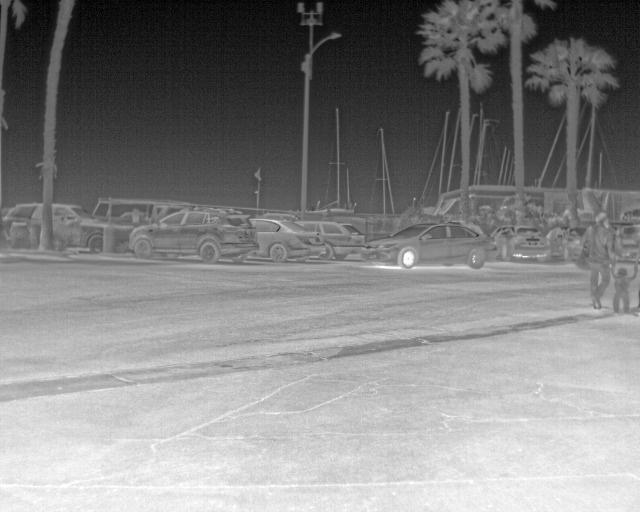bicycle: (127, 207, 256, 260), (362, 219, 493, 267), (246, 217, 323, 262), (287, 220, 364, 260), (52, 204, 100, 253), (495, 225, 549, 262), (1, 202, 39, 250), (92, 195, 152, 223)
empty: (586, 211, 616, 305), (607, 264, 636, 310)
